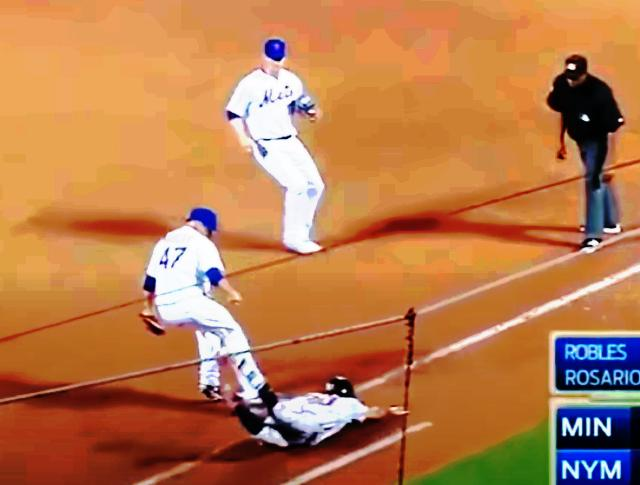jatuh: (202, 339, 416, 461)
